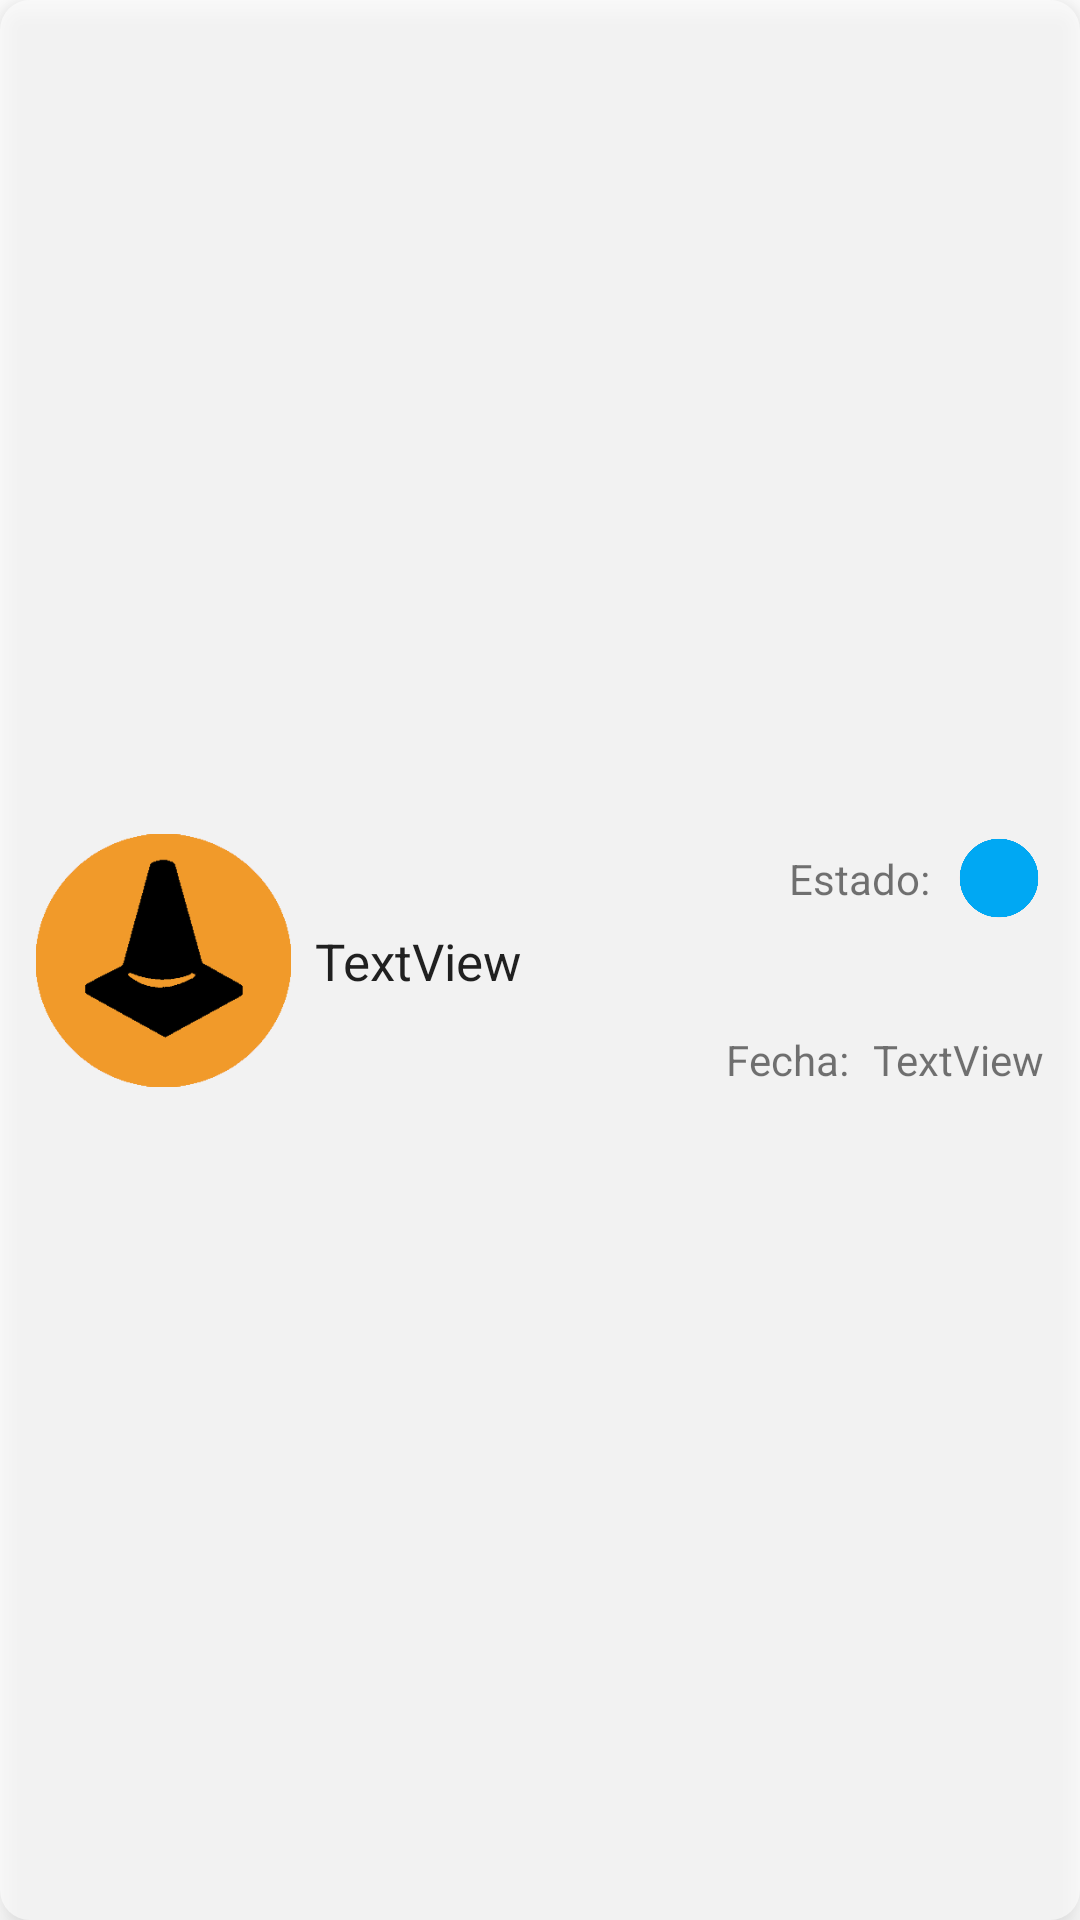

Where to tap for icons on this 1080 × 1920 app screen, as point (x, y):
incidencia: point (163, 960)
